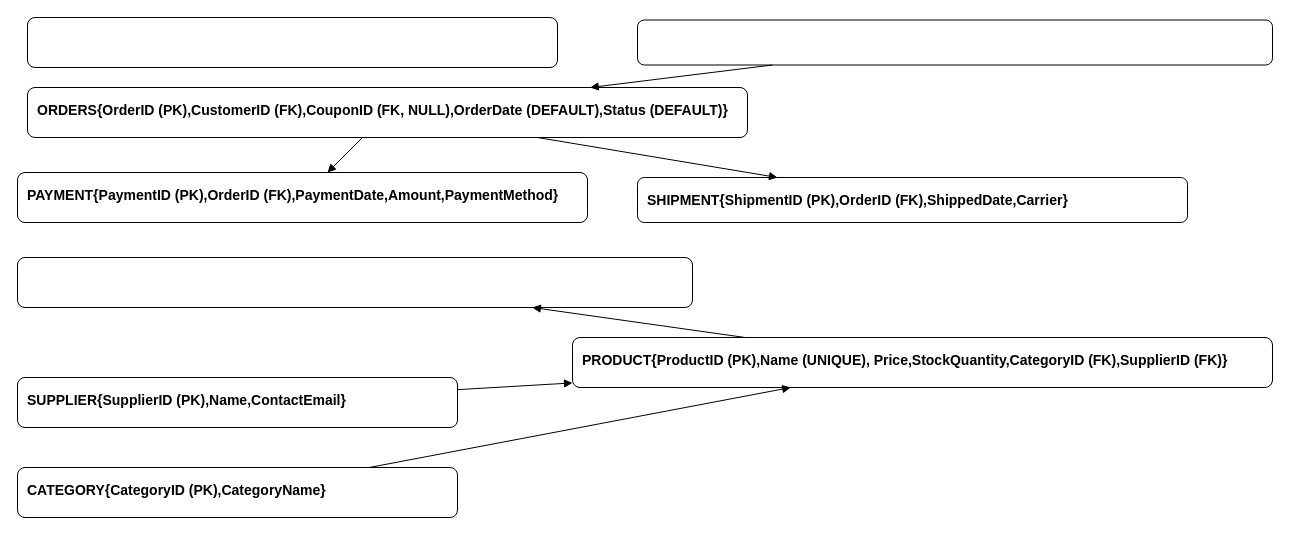
The diagram is 1290 pixels wide and 535 high, and some of its shapes have lost their labels. Each missing label, with the centre of its shape:
COUPON{CouponID (PK),Code(UNIQUE),DiscountType,DiscountValue,ExpiryDate}: [954,42]
CUSTOMER{ CustomerID (PK), Name, Email (UNIQUE), Phone, Address }: [292,42]
ORDERITEMS{OrderID (PK, FK),ProductID (PK, FK),Quantity,UnitPrice}: [354,282]
